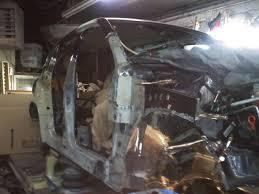RunningBoard-Dent: (36, 134, 110, 157)
